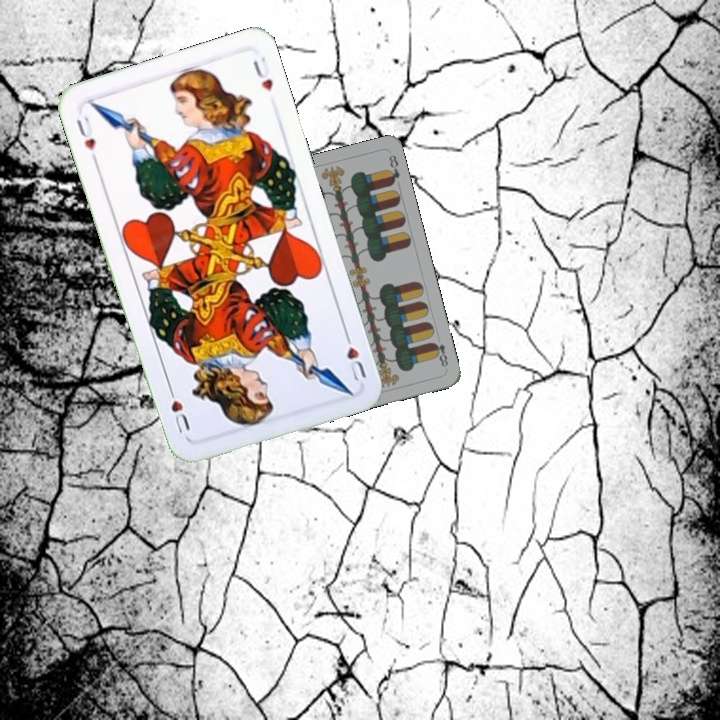E8: (428, 338, 451, 369)
HU: (340, 327, 369, 384), (72, 112, 100, 165)
